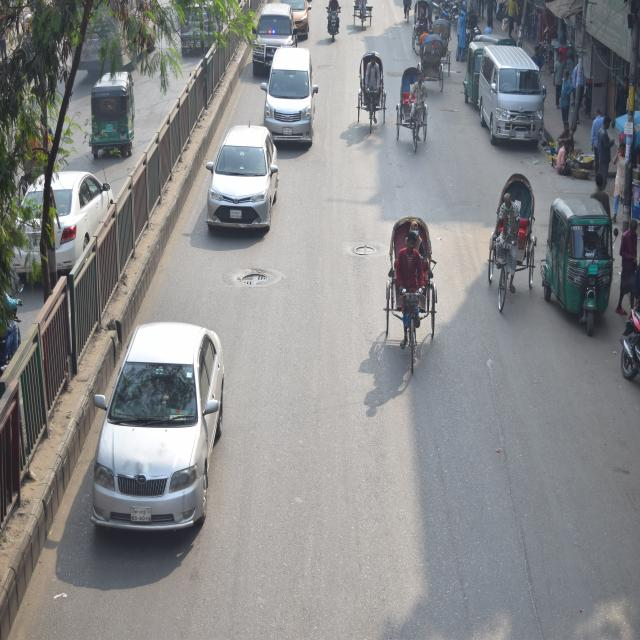car: (91, 310, 226, 538), (11, 157, 110, 288), (204, 117, 278, 234), (264, 41, 320, 150), (248, 0, 296, 66)
microbus: (472, 42, 557, 154)
motorbike: (315, 3, 358, 49)
